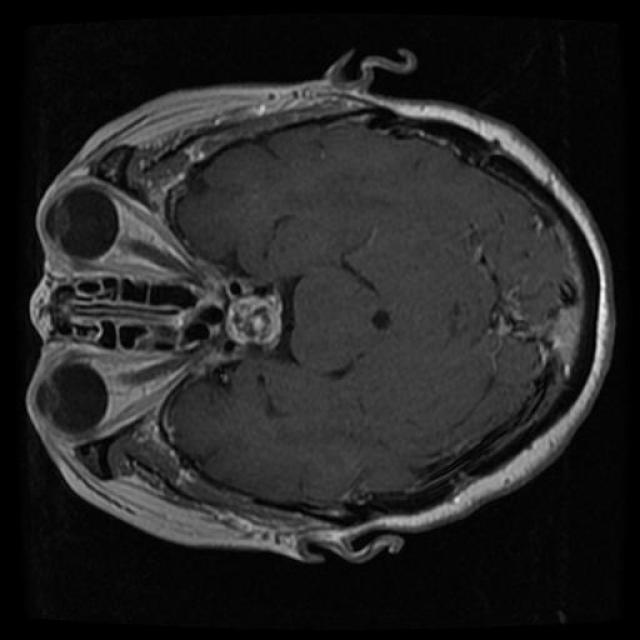Pituitary: (225, 294, 281, 345)
